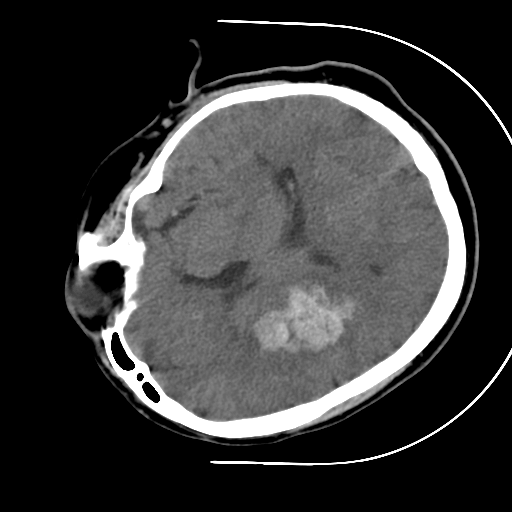a: (232, 254, 382, 388)
